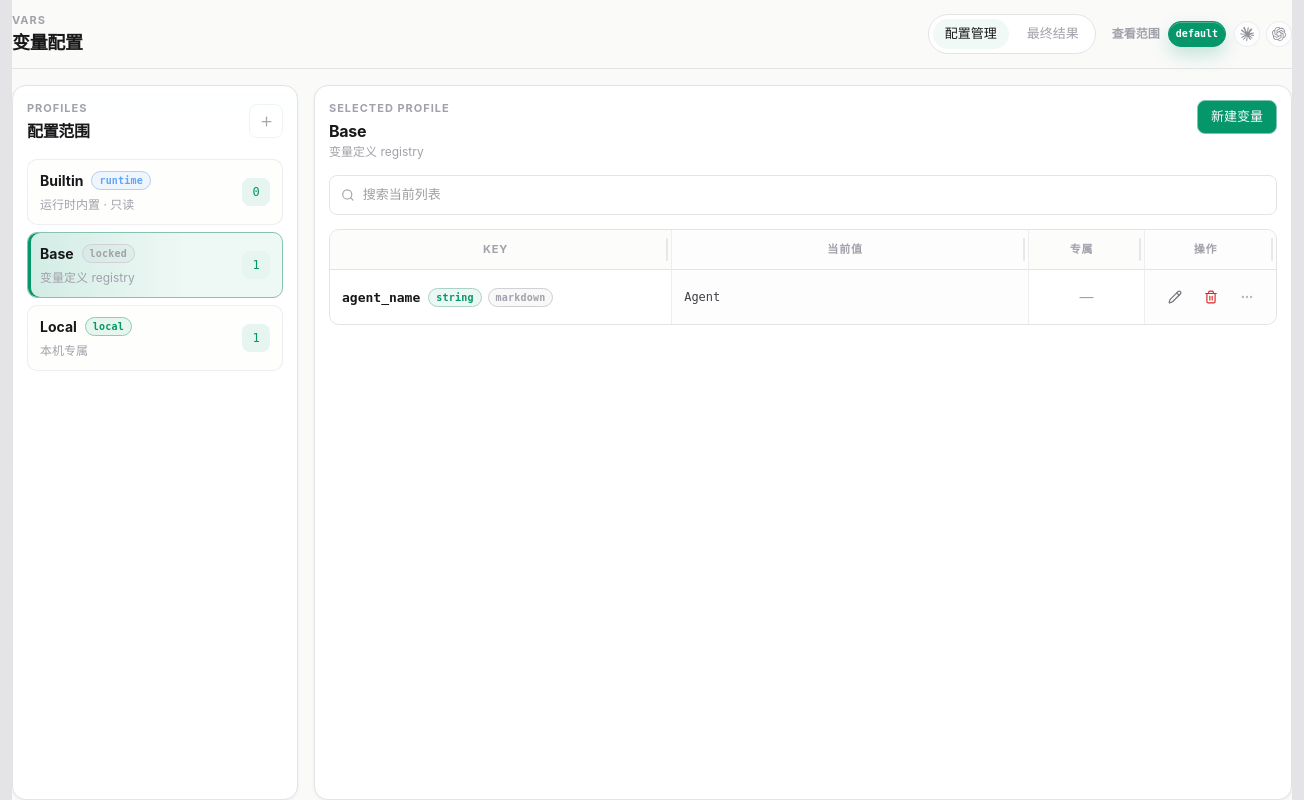
it: Vars view › refreshes final resolved values when switching agent
Expected: the text "agent_name" is shown, [342, 290, 420, 304]
Click the button "最终结果".
click(1053, 34)  # box [1015, 19, 1091, 49]
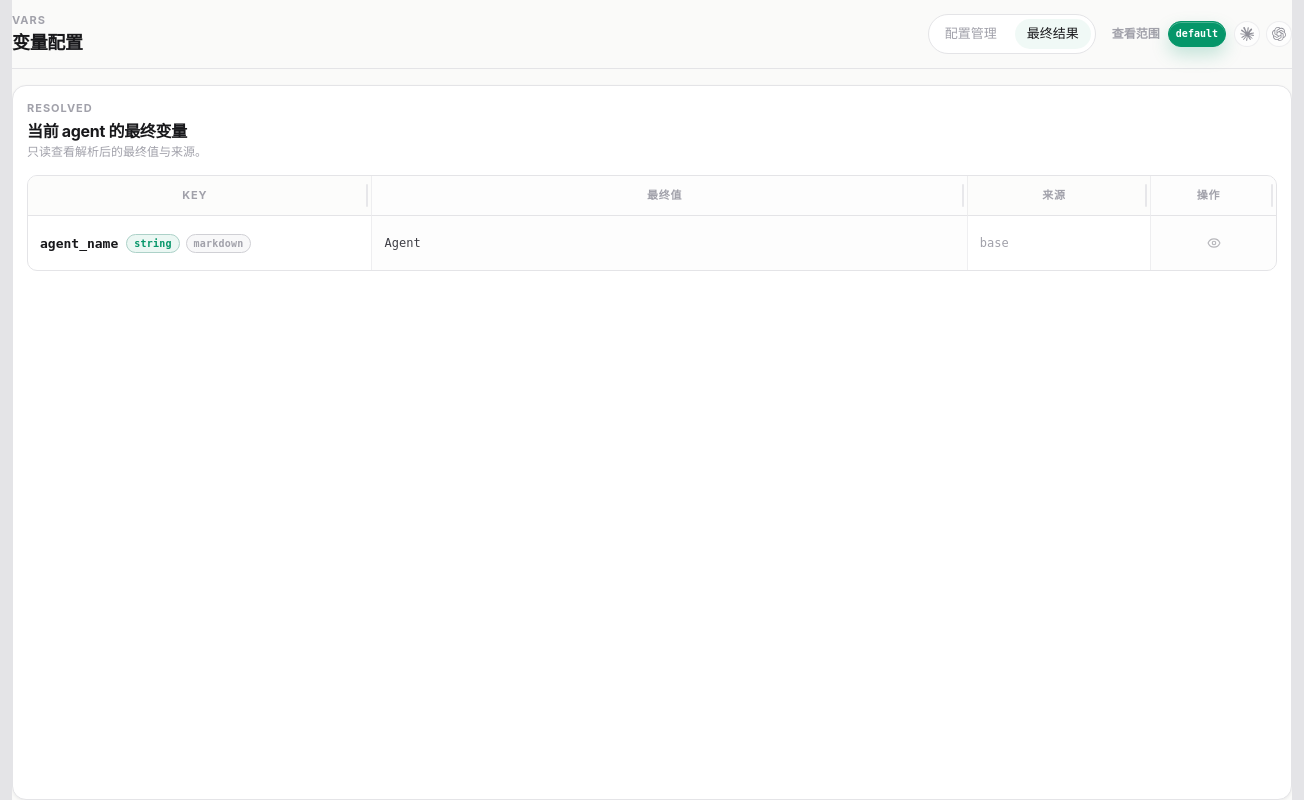
Click the button named "Claude Code".
click(1247, 34)  # box [1234, 21, 1260, 47]
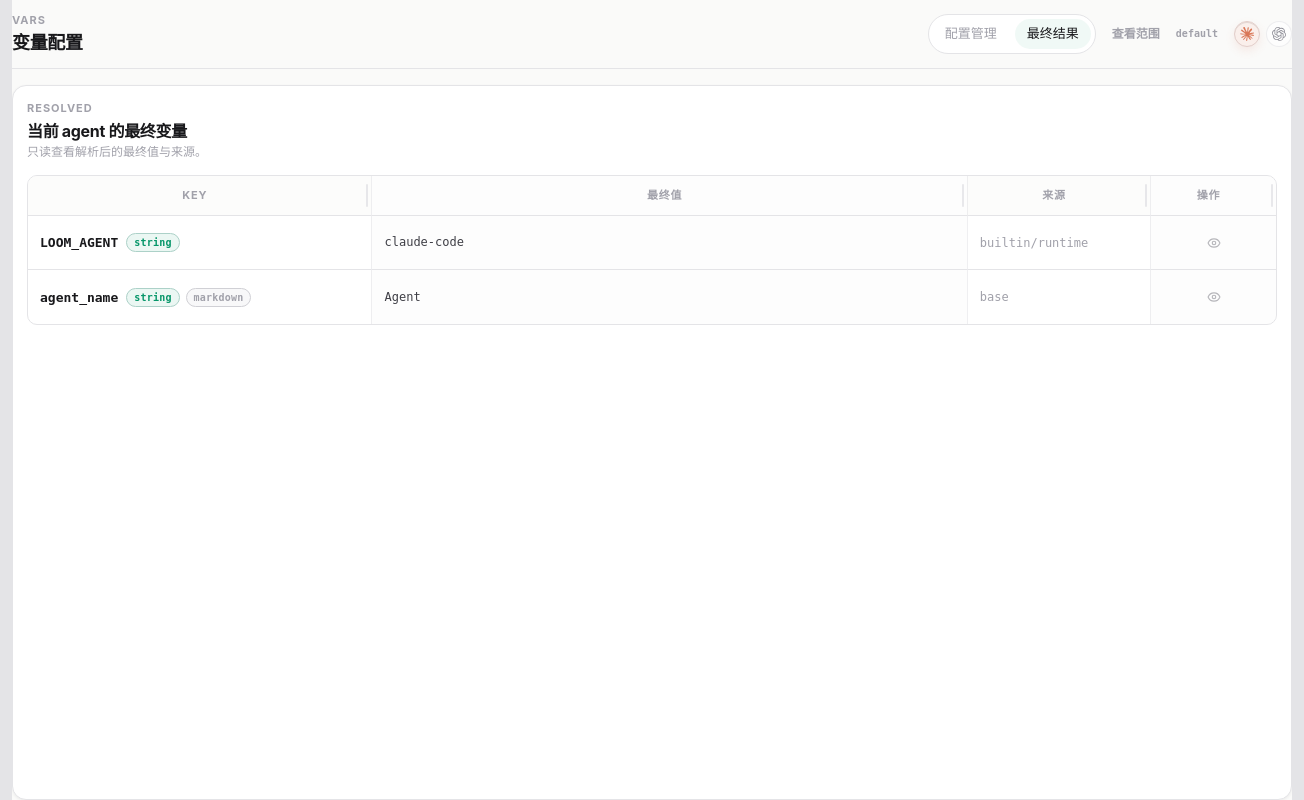
Now the row "agent_name string markdown Agent base" is shown, box [28, 270, 1276, 324]
Now the row "LOOM_AGENT string claude-code builtin/runtime" is shown, box [28, 216, 1276, 270]
